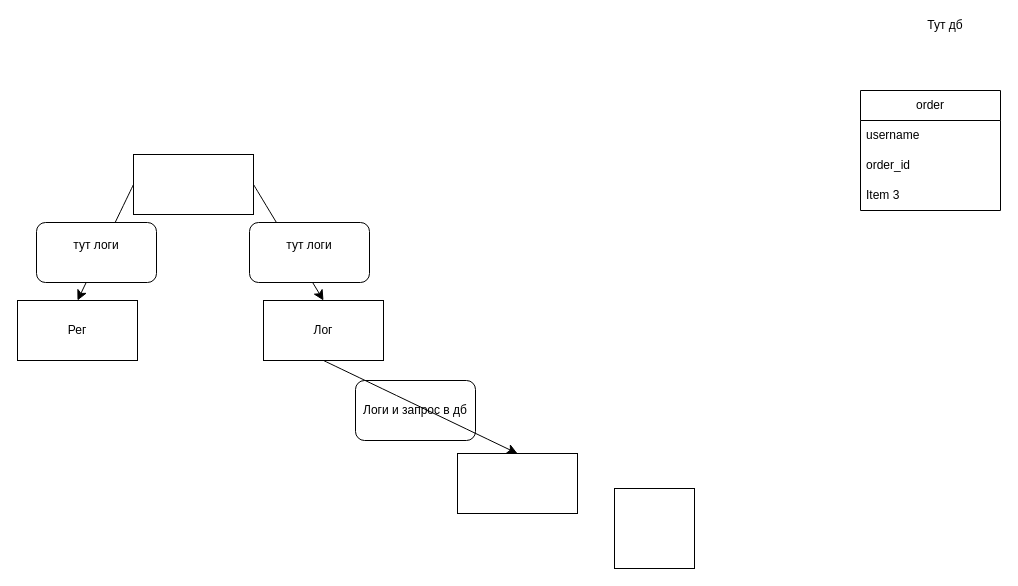
Image size: 1018x586. Some labels were removed from this diagram. Each missing label, with the centre of its shape:
"главная" goes at point (193, 184).
"показ заказов" goes at point (517, 483).
"предложения добавить заказ" goes at point (654, 528).
